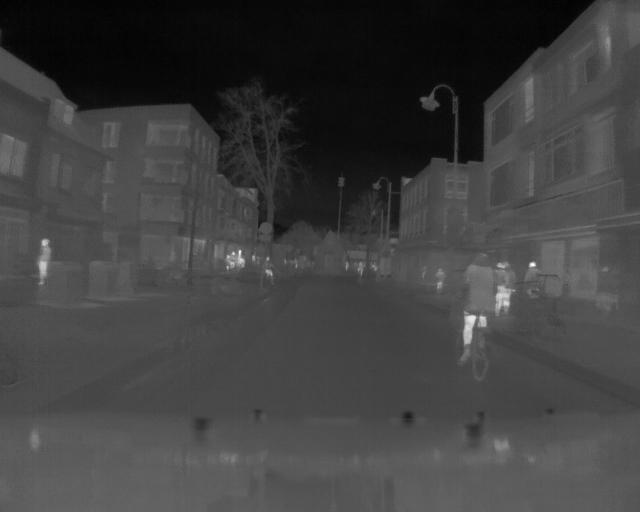person: (463, 254, 494, 360), (37, 237, 55, 287), (521, 260, 544, 289), (504, 259, 516, 311), (496, 259, 504, 315), (263, 254, 276, 285), (434, 265, 446, 294)
